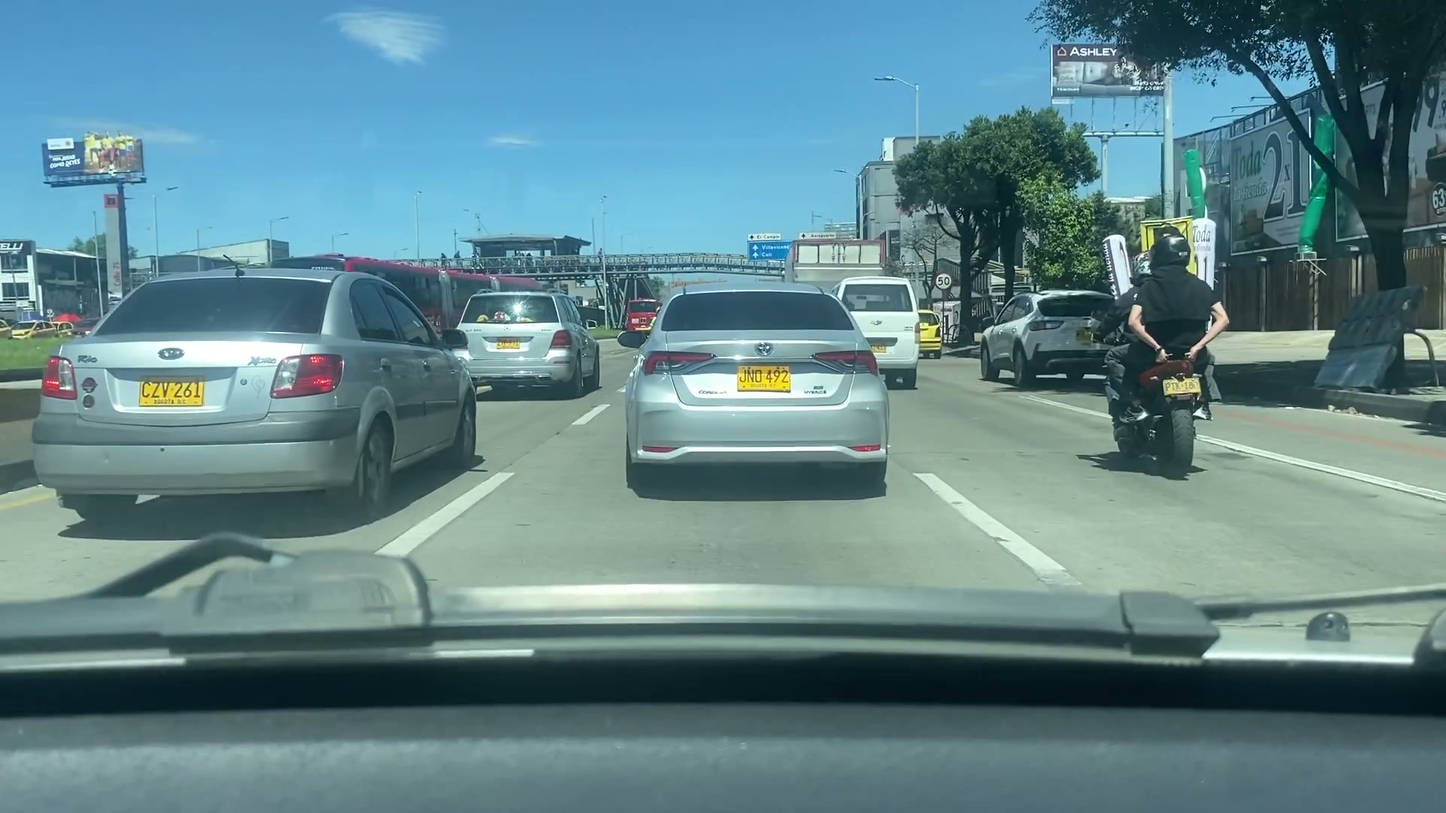bus: (834, 277, 920, 390)
car: (28, 268, 478, 534), (614, 285, 893, 490), (451, 289, 603, 397), (984, 287, 1120, 386), (915, 304, 946, 366)
motorcycle: (1097, 344, 1235, 471)
person: (1102, 228, 1229, 438)
